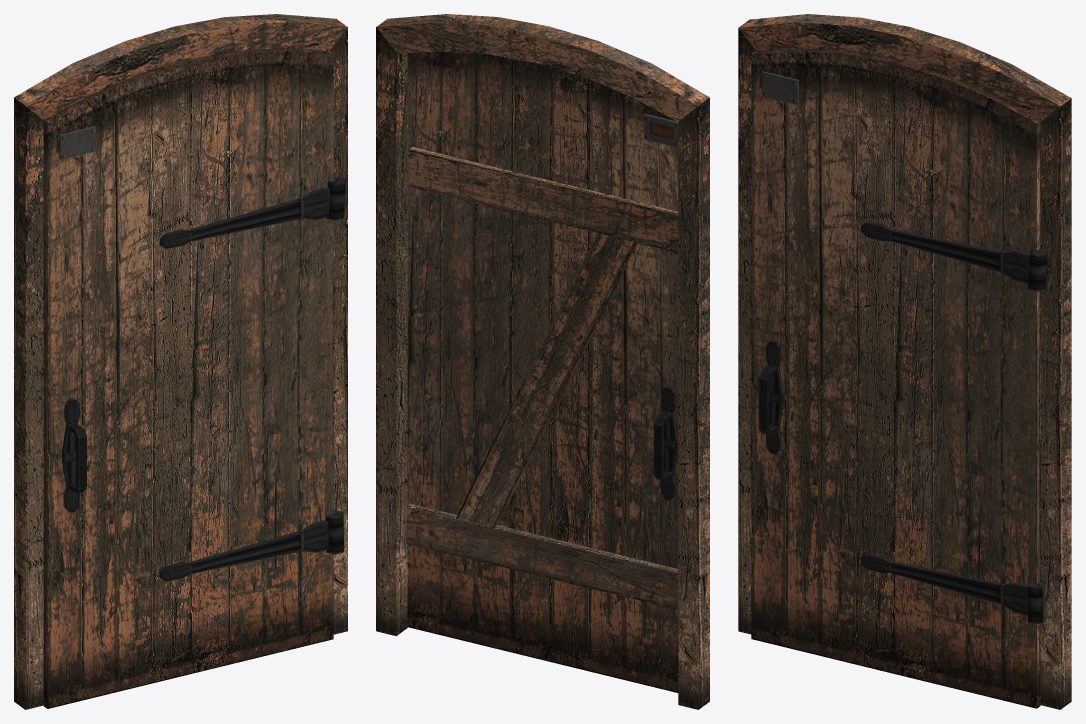
File: factory_corridor_01_door_01_alarm.DAE
3 views of the same model, side by side, from view 1: azimuth 30°, elevation 25°; view 2: azimuth 150°, elevation 25°; view 3: azimuth 330°, elevation 25° (orthographic).
Visible parts, largest first — view 1: Box315, Box317, Box314, Box316, Object146, Object147; view 2: Box315, Box317, Box316, Object147; view 3: Box315, Box317, Box314, Box316, Object146, Object147.
Boxes of the visible parts, bbox=[...] form: Box315: bbox=[43, 48, 333, 708]; Box317: bbox=[14, 14, 347, 709]; Box314: bbox=[159, 187, 330, 581]; Box316: bbox=[62, 398, 86, 512]; Object146: bbox=[325, 176, 345, 554]; Object147: bbox=[59, 126, 96, 159]; Box315: bbox=[406, 51, 678, 692]; Box317: bbox=[376, 14, 709, 709]; Box316: bbox=[653, 386, 678, 500]; Object147: bbox=[644, 114, 678, 147]; Box315: bbox=[751, 48, 1040, 708]; Box317: bbox=[738, 14, 1071, 709]; Box314: bbox=[861, 221, 1029, 615]; Box316: bbox=[758, 340, 783, 454]; Object146: bbox=[1027, 248, 1047, 624]; Object147: bbox=[762, 71, 798, 105].
Bounding box in the file's own units: 1.84 × 3.46 × 0.2729.
